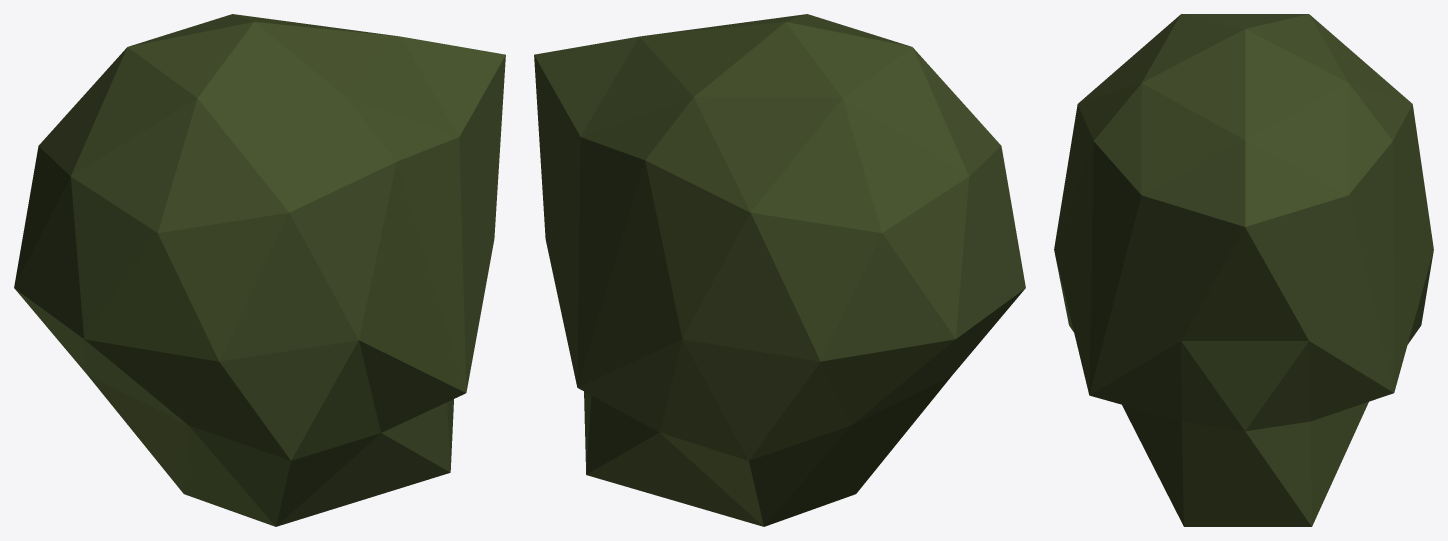
The model's file is character head.obj.
The picture shows the model from 3 angles, left to right: view 1: azimuth 30°, elevation 25°; view 2: azimuth 150°, elevation 25°; view 3: azimuth 270°, elevation 25°; orthographic projection. The views are drawn at different scales.
Visible parts, largest first — view 1: Head; view 2: Head; view 3: Head.
Part boxes in pixels (x1,y1,x2,y2): Head: (14,14,505,526); Head: (534,14,1025,526); Head: (1054,14,1433,526).
Size of the model in its own units: 1.54 by 1.59 by 1.22.
